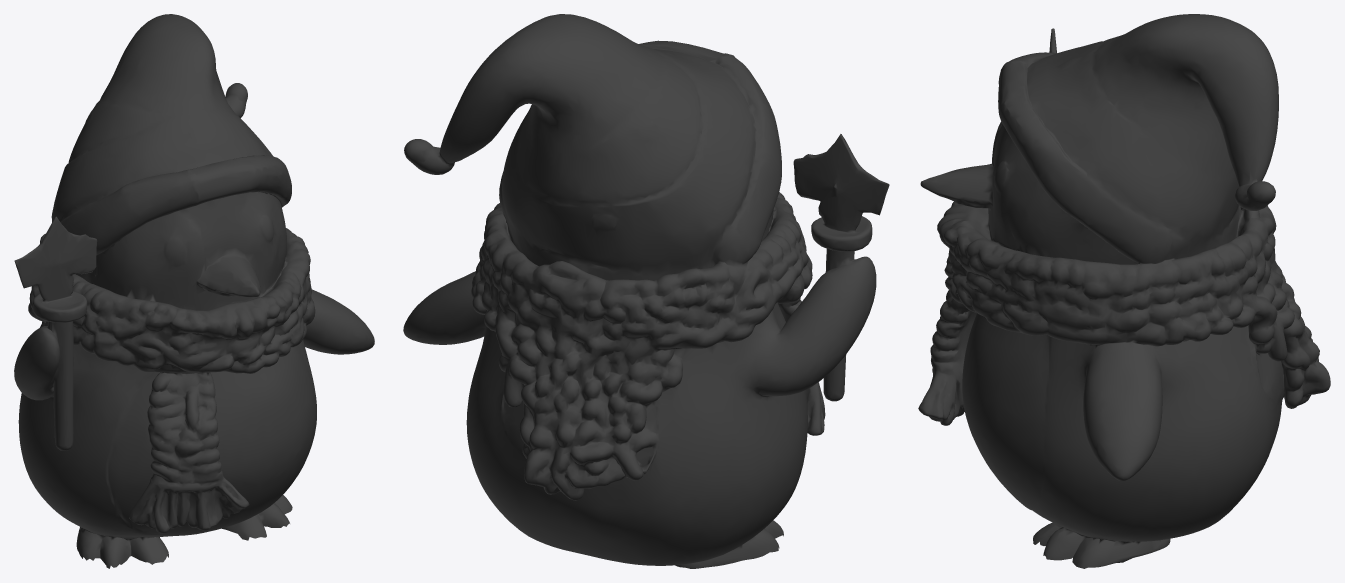
The model's file is nieve.glb.
3 views of the same model, side by side, from view 1: azimuth 30°, elevation 25°; view 2: azimuth 150°, elevation 25°; view 3: azimuth 270°, elevation 25° (orthographic). The views are drawn at different scales.
Parts seen in each view (by area): view 1: geometry_0; view 2: geometry_0; view 3: geometry_0.
Part boxes in pixels (x1,y1,x2,y2): geometry_0: (14, 14, 374, 568); geometry_0: (403, 14, 889, 568); geometry_0: (918, 14, 1330, 568).
Bounding box in the file's own units: 0.8571 × 0.9689 × 0.7023.
1 material, 1 textured.
